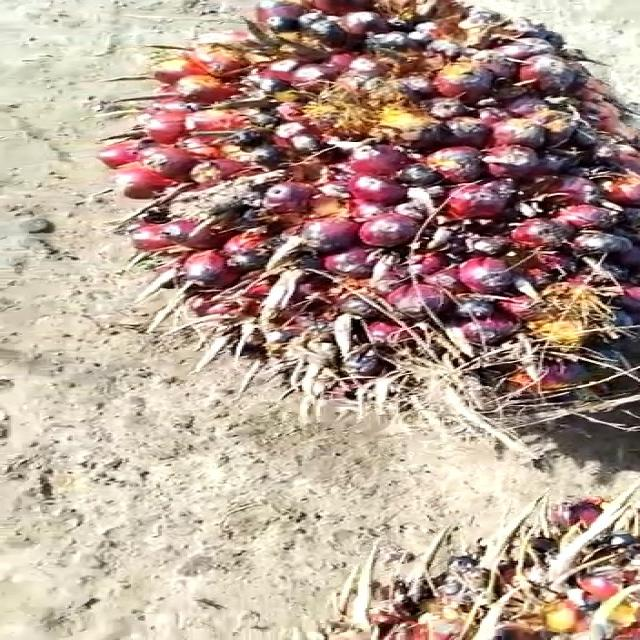palm oil: (82, 0, 640, 438)
